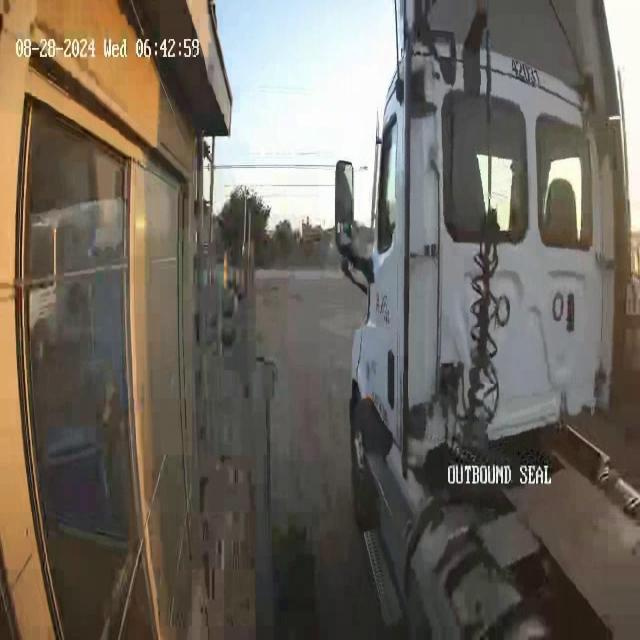TRUCK_OUT: (331, 2, 640, 640)
